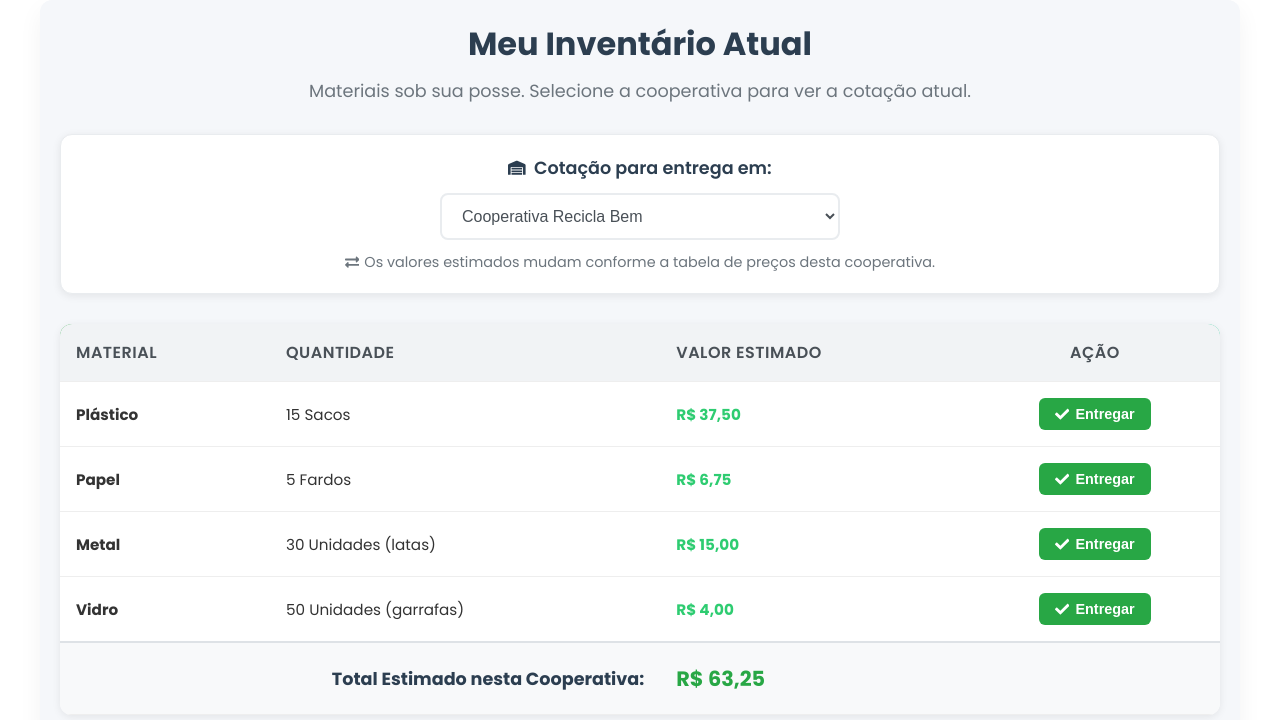
Test: ColetorInventario - TDD › RED Phase - Testes que devem falhar inicialmente › deve remover item ao confirmar entrega
The width and height of the screenshot is (1280, 720).
Note: Pega o primeiro botao de entregar
Click the button "Entregar" in the row of "Plástico" at (1095, 414), box [1039,398,1151,430]
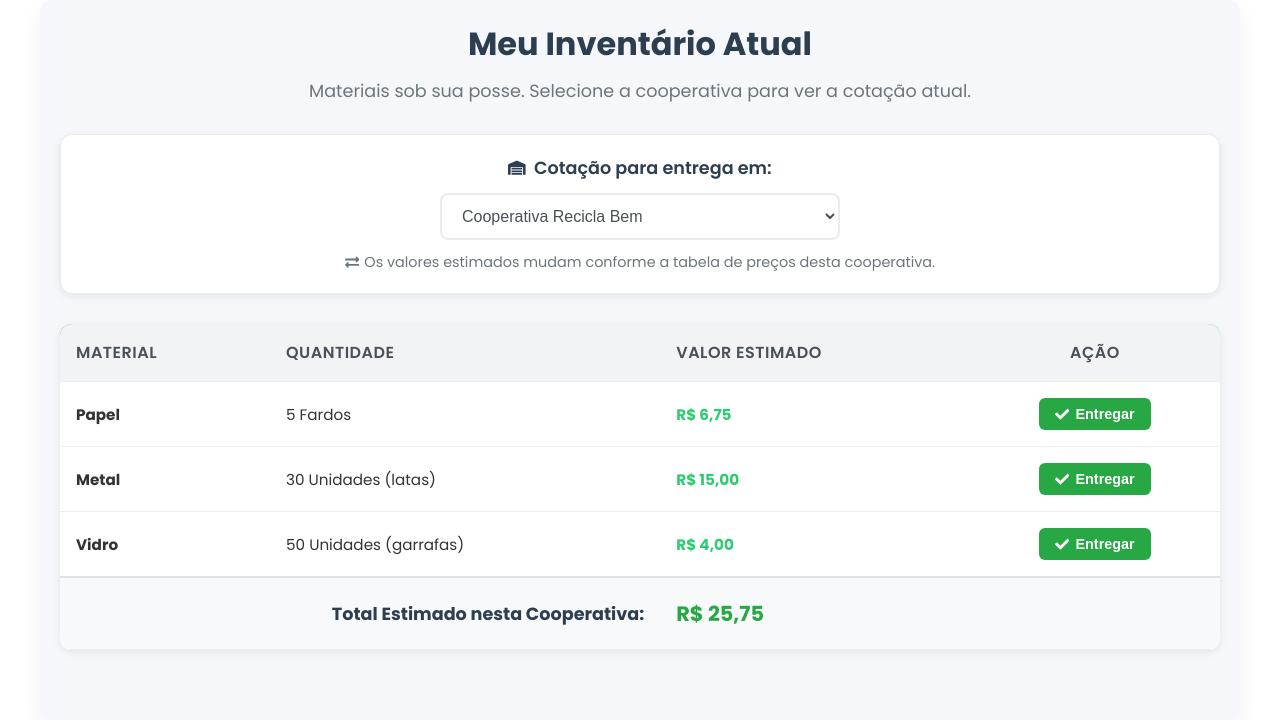
Now the number of buttons "Entregar" is 3, box [1039,398,1151,430]; [1039,463,1151,495]; [1039,528,1151,560]
